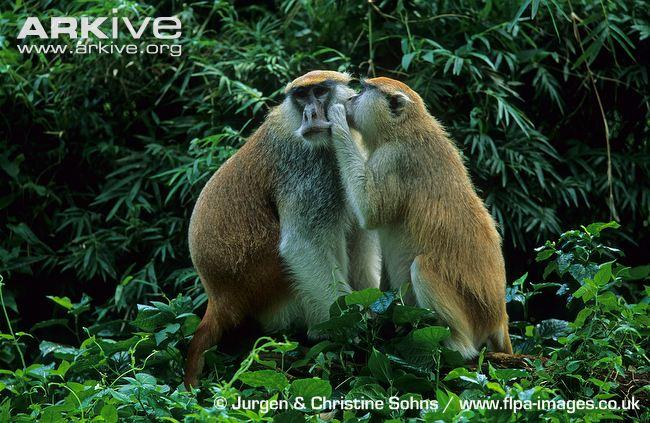monkey: (184, 70, 515, 388)
